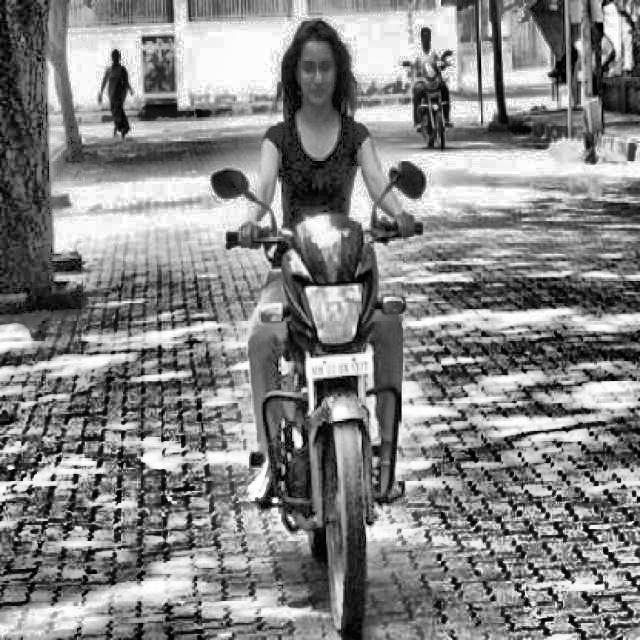motorcycle: (198, 168, 460, 634)
